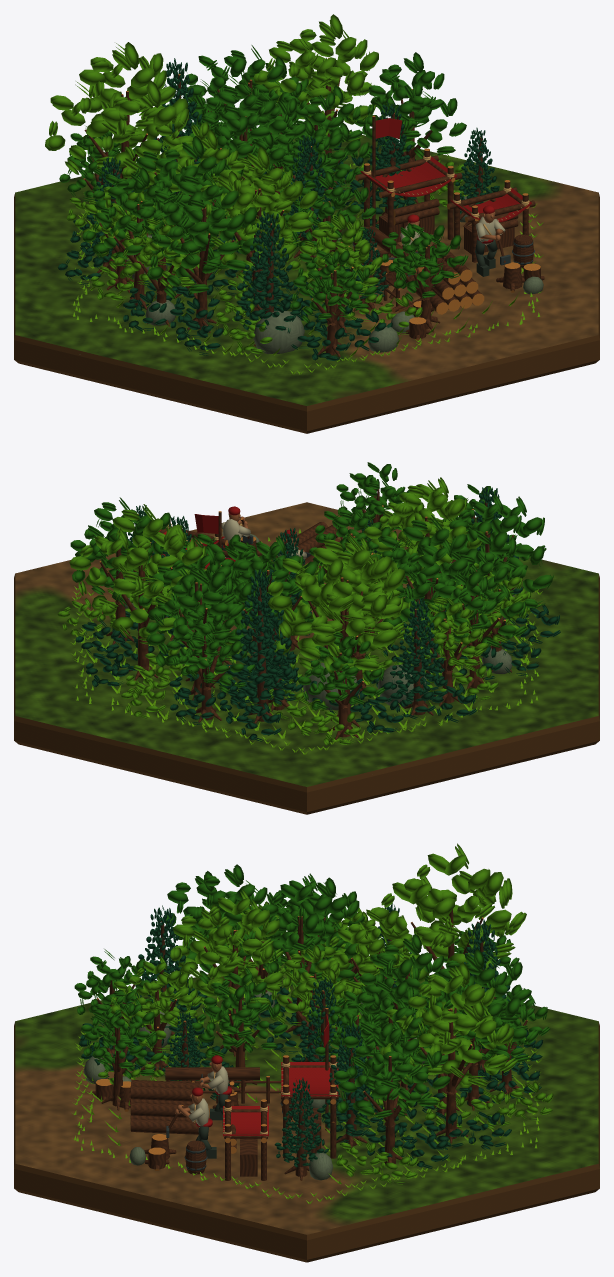
File: forest-camp-lod1.fbx
3 renders of one model, top to bottom at view 1: azimuth 30°, elevation 25°; view 2: azimuth 150°, elevation 25°; view 3: azimuth 270°, elevation 25°, orthographic.
Parts seen in each view (by area): view 1: LOD1_树林, LOD1_地块, LOD1_地被, LOD1_营地, LOD1_营地_玩家色, LOD1_人物; view 2: LOD1_树林, LOD1_地块, LOD1_地被, LOD1_营地, LOD1_人物, LOD1_营地_玩家色; view 3: LOD1_树林, LOD1_地块, LOD1_地被, LOD1_营地, LOD1_营地_玩家色, LOD1_人物.
Boxes of the visible parts, left/top/right/bottom form: LOD1_树林: left=45, top=14, right=499, bottom=357; LOD1_地块: left=14, top=125, right=599, bottom=433; LOD1_地被: left=58, top=142, right=543, bottom=374; LOD1_营地: left=348, top=115, right=544, bottom=340; LOD1_营地_玩家色: left=360, top=118, right=531, bottom=222; LOD1_人物: left=400, top=212, right=510, bottom=283; LOD1_树林: left=69, top=462, right=553, bottom=739; LOD1_地块: left=14, top=502, right=599, bottom=814; LOD1_地被: left=57, top=529, right=560, bottom=754; LOD1_营地: left=148, top=511, right=374, bottom=620; LOD1_人物: left=221, top=513, right=311, bottom=559; LOD1_营地_玩家色: left=159, top=514, right=235, bottom=569; LOD1_树林: left=74, top=843, right=550, bottom=1180; LOD1_地块: left=14, top=955, right=599, bottom=1262; LOD1_地被: left=72, top=977, right=553, bottom=1203; LOD1_营地: left=92, top=1008, right=338, bottom=1180; LOD1_营地_玩家色: left=223, top=1014, right=338, bottom=1136; LOD1_人物: left=165, top=1061, right=228, bottom=1158.
Bounding box in the file's own units: 7.9 × 2.8 × 6.84.
